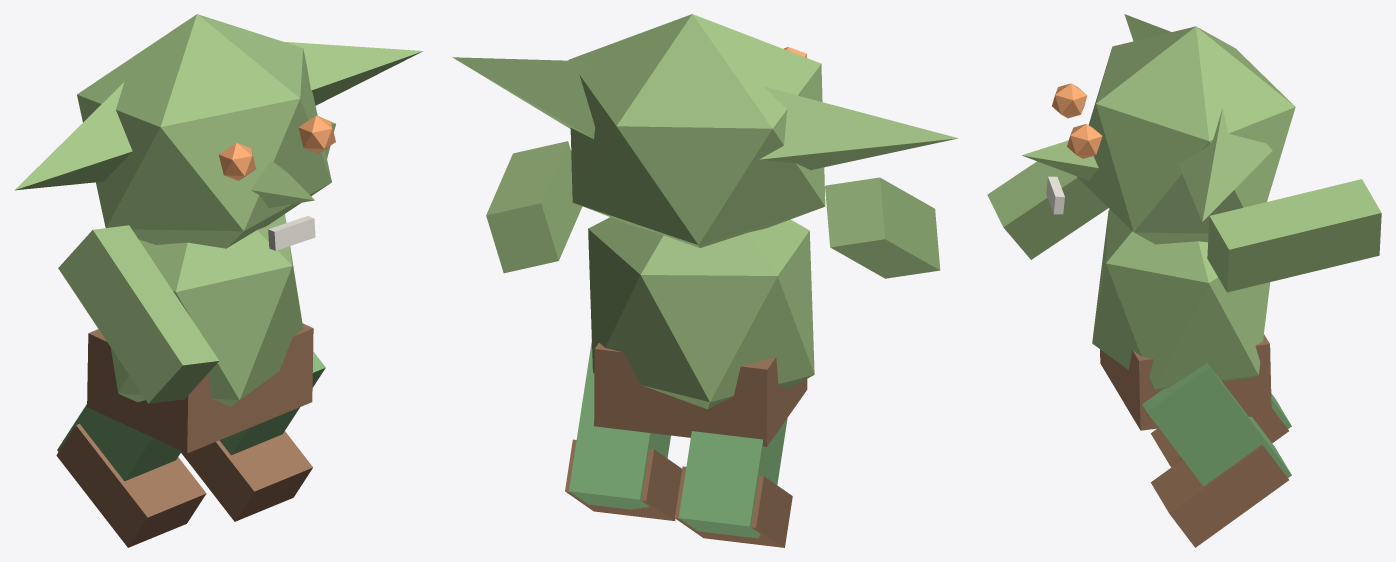
The model's file is npcpose_goblin_attack_06.glb.
3 views of the same model, side by side, from view 1: azimuth 30°, elevation 25°; view 2: azimuth 150°, elevation 25°; view 3: azimuth 270°, elevation 25° (orthographic). The views are drawn at different scales.
Visible parts, largest first — view 1: npcpose; view 2: npcpose; view 3: npcpose.
Part boxes in pixels (x1=…): npcpose: x1=14, y1=14, x2=423, y2=547; npcpose: x1=452, y1=14, x2=958, y2=547; npcpose: x1=987, y1=14, x2=1381, y2=547.
Bounding box in the file's own units: 1.01 × 1.09 × 0.8161.
